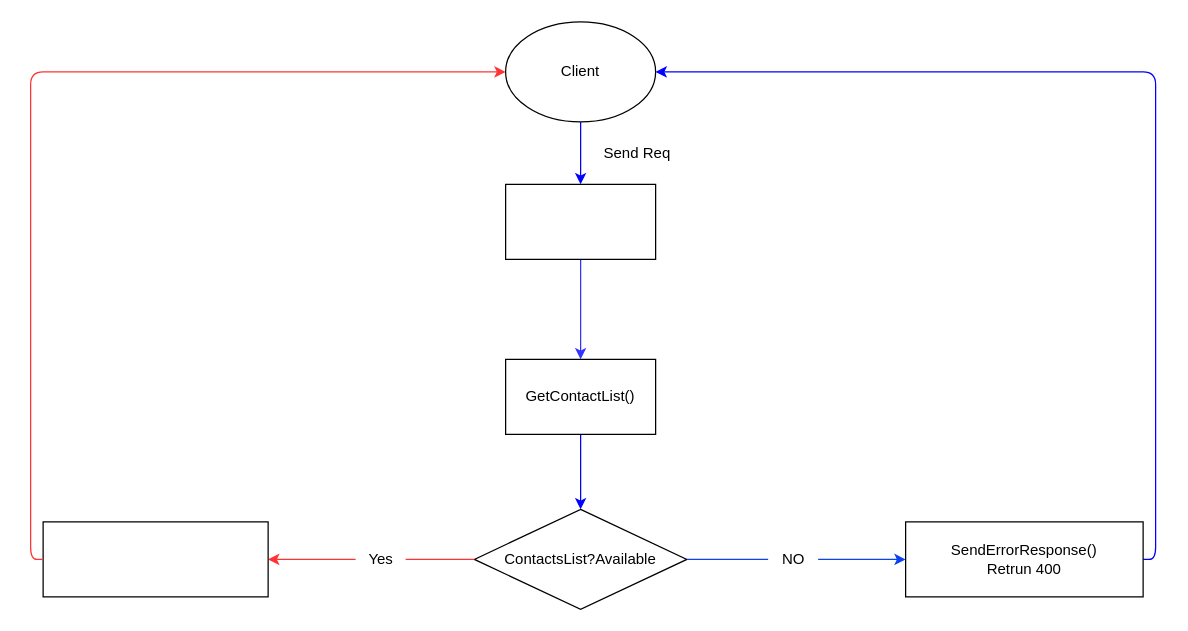
The diagram is 1188 pixels wide and 631 high, and some of its shapes have lost their labels. Here are the shapes that lost their labels. From the top down, the centre of each, then its label:
At (x=580, y=221): "GET=> /Contacts".
At (x=155, y=559): "ProcessContactsRequest() Return 200".
